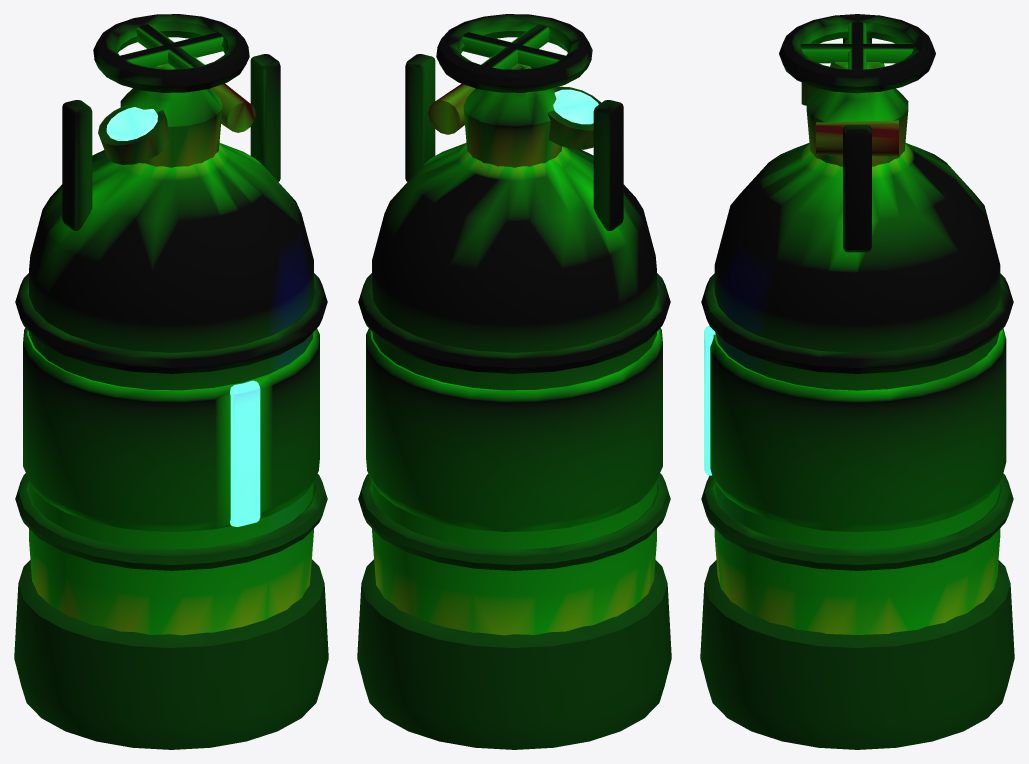
File: hero_oxygen_bottle.glb
3 views of the same model, side by side, from view 1: azimuth 30°, elevation 25°; view 2: azimuth 150°, elevation 25°; view 3: azimuth 270°, elevation 25° (orthographic).
Parts seen in each view (by area): view 1: HeroOxygenBottle; view 2: HeroOxygenBottle; view 3: HeroOxygenBottle.
Part boxes in pixels (x1,y1,x2,y2): HeroOxygenBottle: (14,14,328,749); HeroOxygenBottle: (357,14,671,749); HeroOxygenBottle: (700,14,1014,749).
Size of the model in its own units: 0.304 by 0.687 by 0.304.
